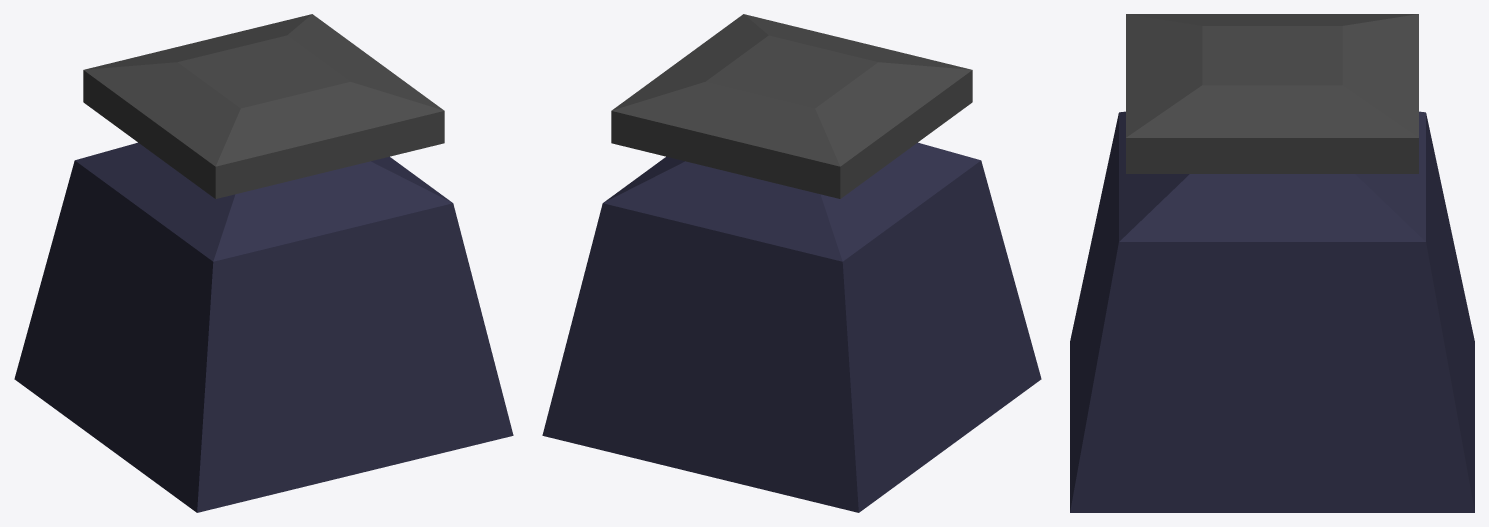
Rendered from Key Pedestal.fbx.
3 renders of one model, left to right at view 1: azimuth 30°, elevation 25°; view 2: azimuth 150°, elevation 25°; view 3: azimuth 270°, elevation 25°, orthographic. The views are drawn at different scales.
Visible parts, largest first — view 1: Key Pedestal; view 2: Key Pedestal; view 3: Key Pedestal.
Boxes of the visible parts, bbox=[...] form: Key Pedestal: bbox=[14, 14, 513, 512]; Key Pedestal: bbox=[542, 14, 1041, 512]; Key Pedestal: bbox=[1070, 14, 1474, 512].
Bounding box in the file's own units: 0.6349 × 0.6431 × 0.6349.
